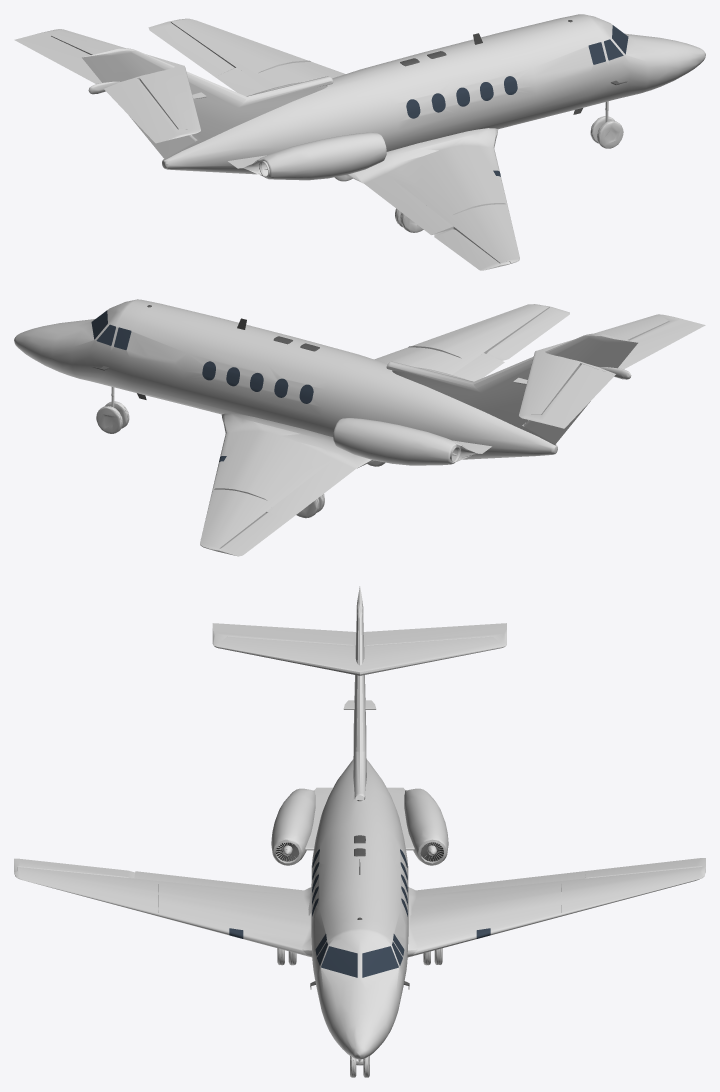
3 views of the same model, one above another, from view 1: azimuth 30°, elevation 25°; view 2: azimuth 150°, elevation 25°; view 3: azimuth 270°, elevation 25° (orthographic). The views are drawn at different scales.
Visible parts, largest first — view 1: body, glass; view 2: body, glass; view 3: body, glass, trim.
Part boxes in pixels (x1,y1,x2,y2): body: [14, 14, 705, 270]; glass: [406, 25, 628, 176]; body: [14, 299, 705, 556]; glass: [91, 310, 313, 461]; body: [14, 586, 705, 1077]; glass: [229, 849, 490, 977]; trim: [275, 835, 443, 989].
Size of the model in its own units: 2.2 by 0.7387 by 2.03.
